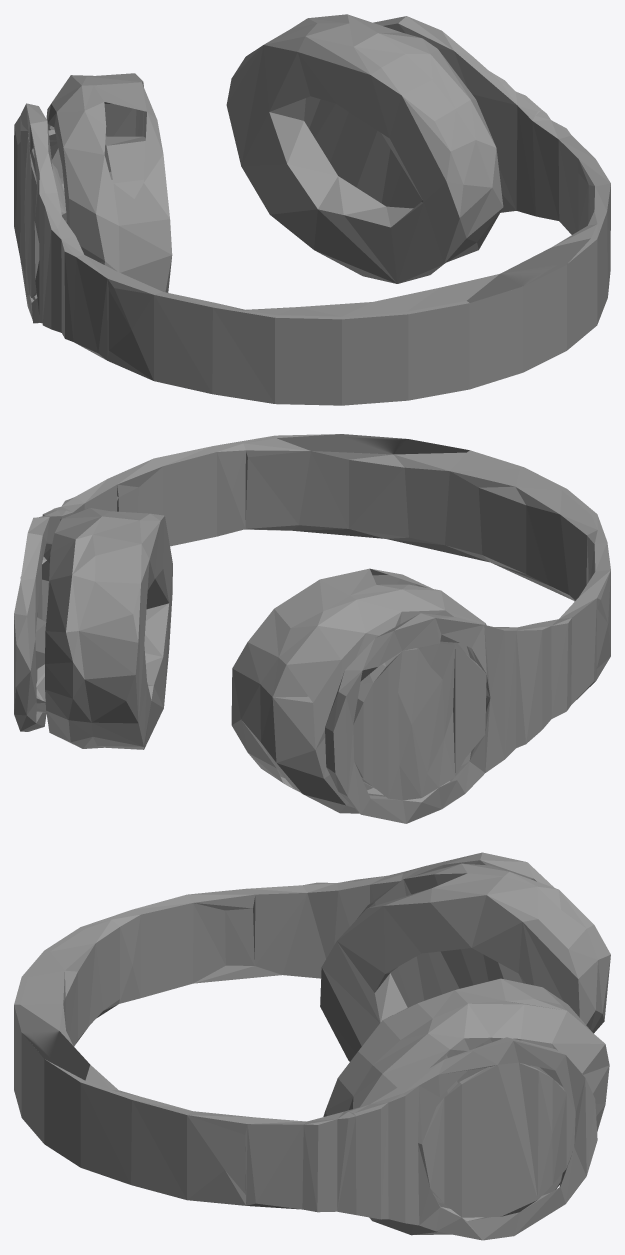
Rendered from model_align.obj.
3 views of the same model, one above another, from view 1: azimuth 30°, elevation 25°; view 2: azimuth 150°, elevation 25°; view 3: azimuth 270°, elevation 25° (orthographic).
Size of the model in its own units: 0.1542 by 0.0655 by 0.1602.
2 materials, 2 textured.
